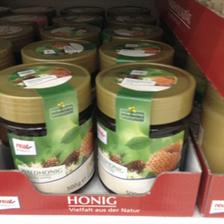Honig: (94, 60, 198, 200), (0, 61, 96, 193)
